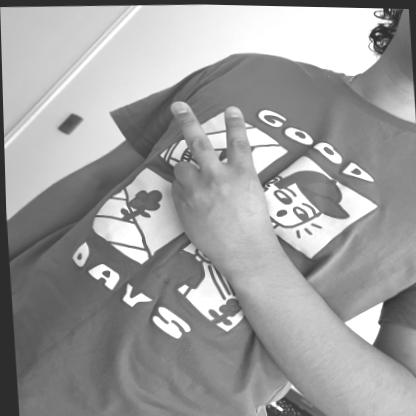V: (154, 92, 266, 259)
